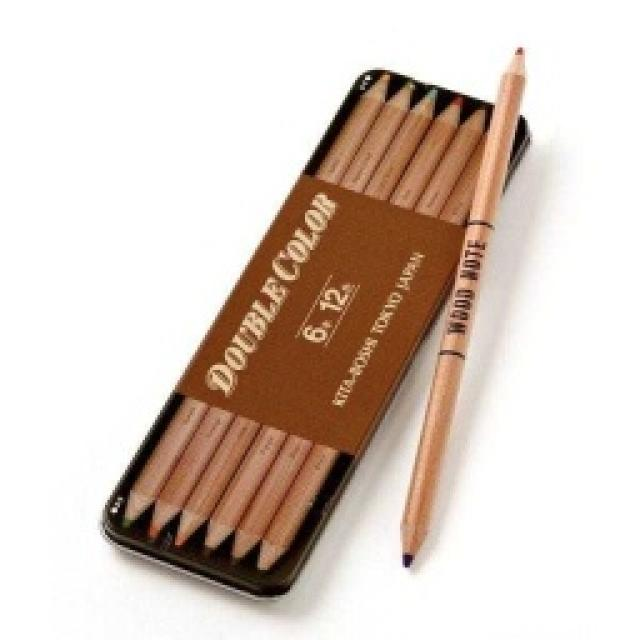pencil: (95, 50, 535, 602)
